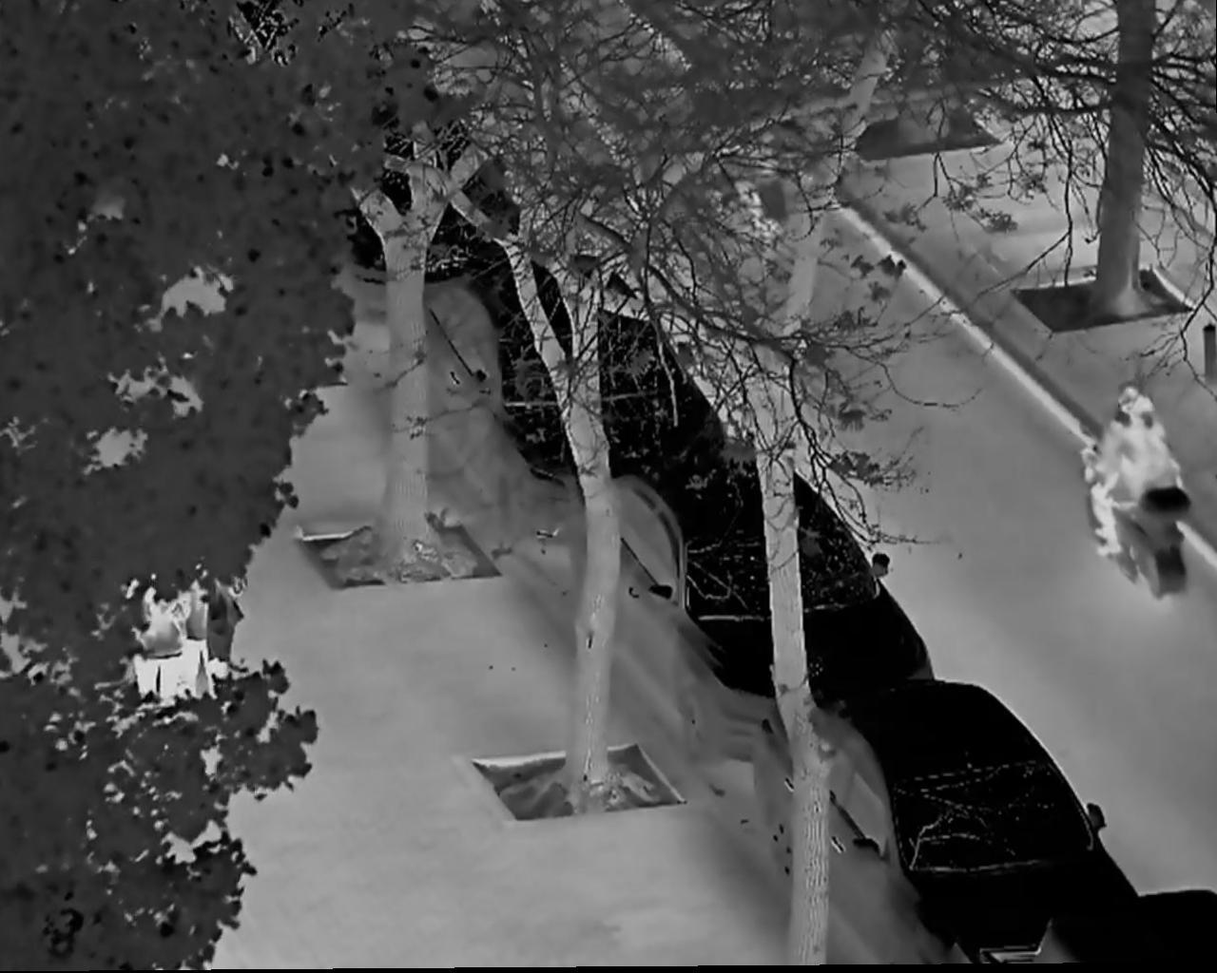person: (1088, 383, 1179, 566), (114, 541, 190, 743), (183, 544, 238, 735)
